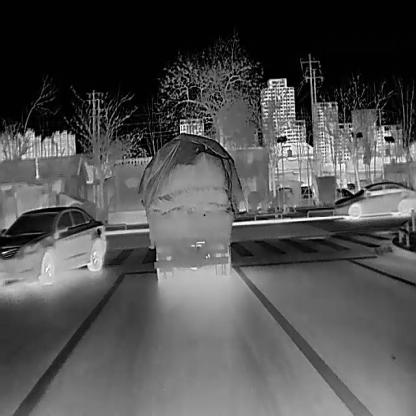car: (0, 206, 106, 284), (332, 180, 416, 218), (298, 185, 314, 199)
truck: (138, 132, 244, 280), (311, 174, 336, 206)
